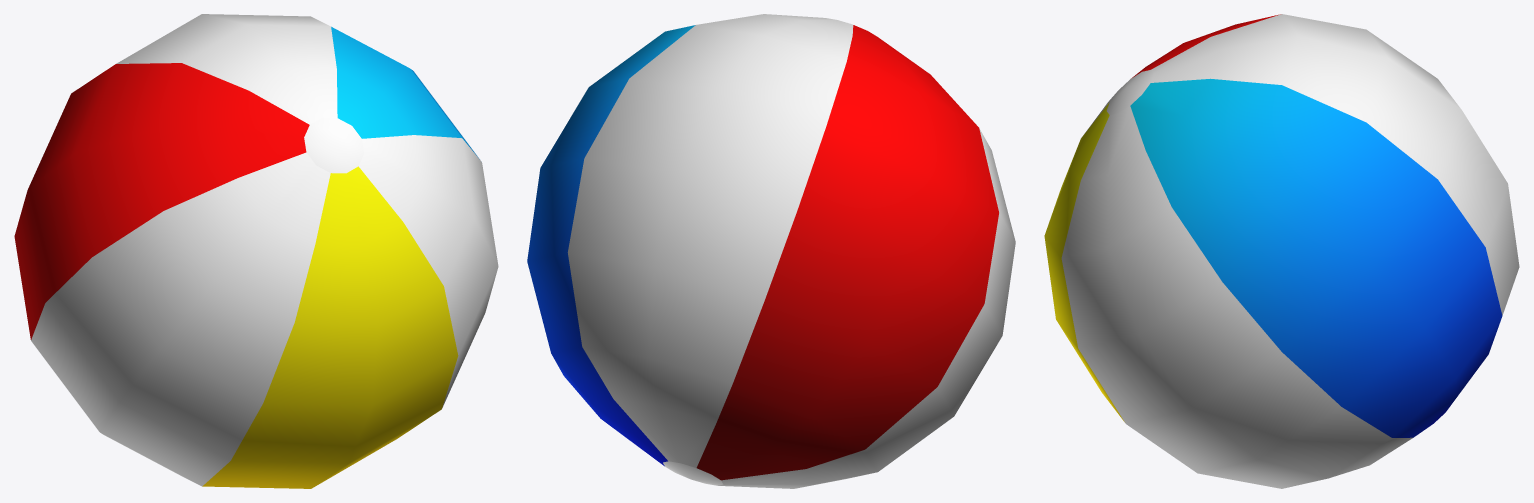
Rendered from BolaPantai1.fbx.
3 renders of one model, left to right at view 1: azimuth 30°, elevation 25°; view 2: azimuth 150°, elevation 25°; view 3: azimuth 270°, elevation 25°, orthographic. The views are drawn at different scales.
Parts seen in each view (by area): view 1: Sphere; view 2: Sphere; view 3: Sphere.
Part boxes in pixels (x1,y1,x2,y2): Sphere: (14,14,498,488); Sphere: (527,14,1015,488); Sphere: (1044,14,1519,488).
Bounding box in the file's own units: 33.51 × 33.42 × 33.42.
